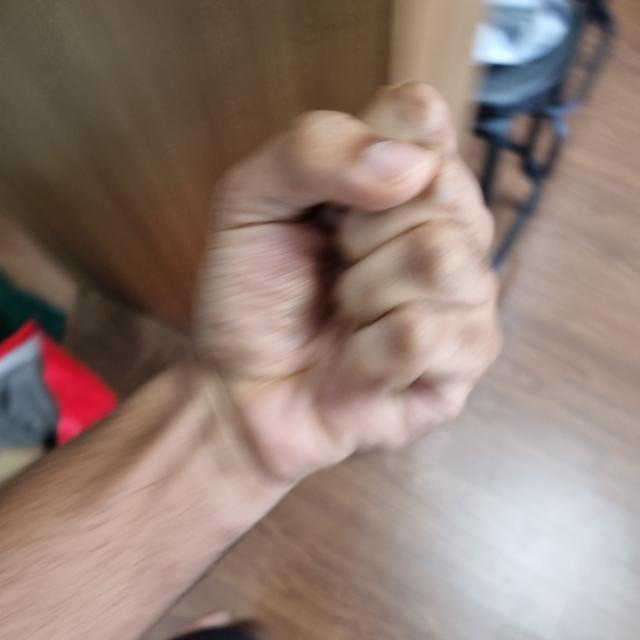Rock: (201, 85, 500, 470)
